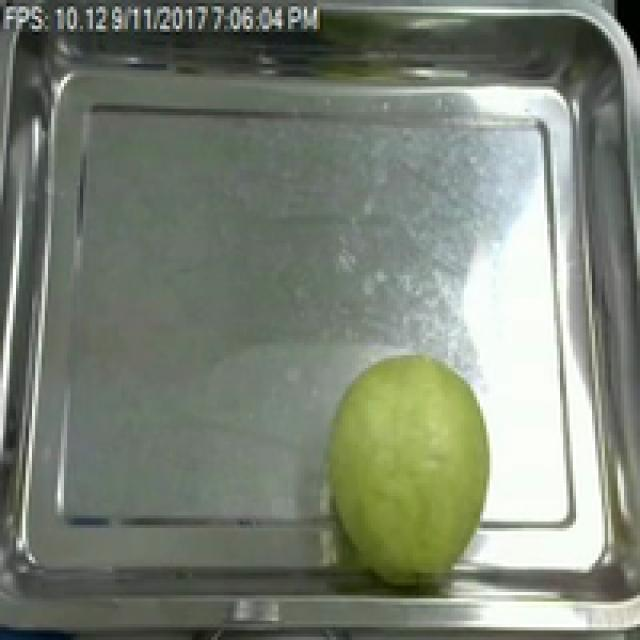Fruit: (314, 342, 502, 580)
